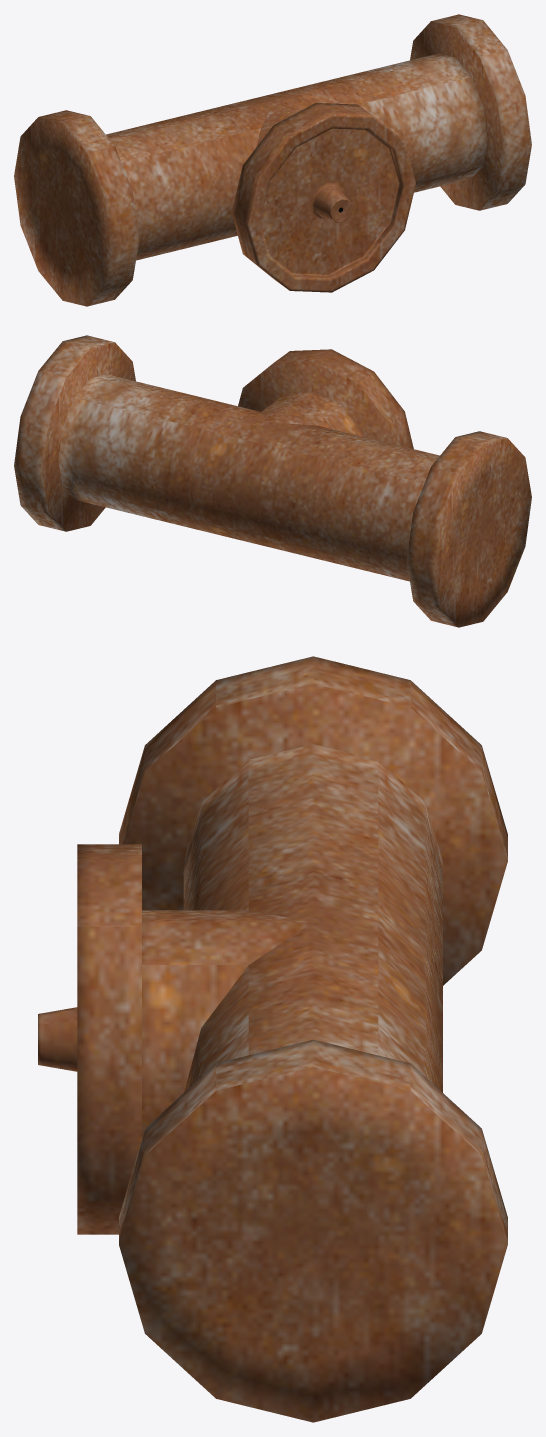
The model's file is pipe.valve.box.fbx.
3 renders of one model, top to bottom at view 1: azimuth 30°, elevation 25°; view 2: azimuth 150°, elevation 25°; view 3: azimuth 270°, elevation 25°, orthographic. The views are drawn at different scales.
Parts seen in each view (by area): view 1: Cylinder, Cylinder.001; view 2: Cylinder, Cylinder.001; view 3: Cylinder, Cylinder.001.
Boxes of the visible parts, box(x1,y1,x2,y2) form: Cylinder: box(14, 14, 531, 306); Cylinder.001: box(231, 102, 415, 292); Cylinder: box(14, 335, 531, 627); Cylinder.001: box(238, 349, 413, 448); Cylinder: box(119, 656, 507, 1422); Cylinder.001: box(38, 844, 312, 1234).
Bounding box in the file's own units: 150 × 60.56 × 72.5.
2 materials, 1 textured.
